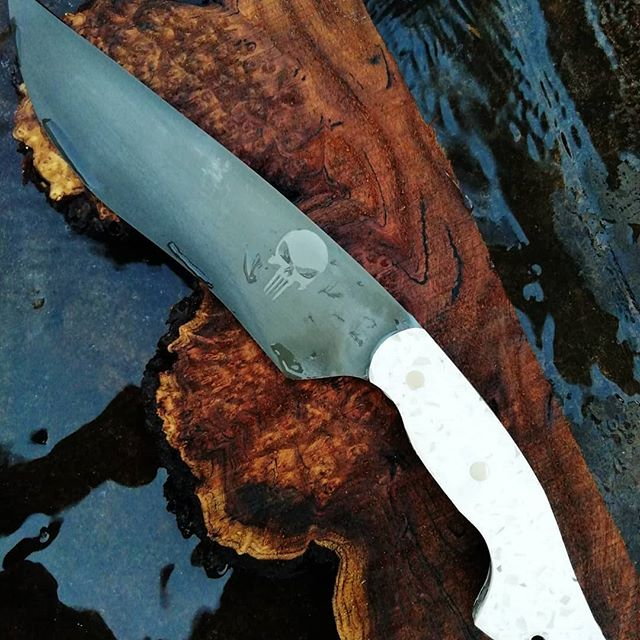knife: (8, 1, 607, 640)
